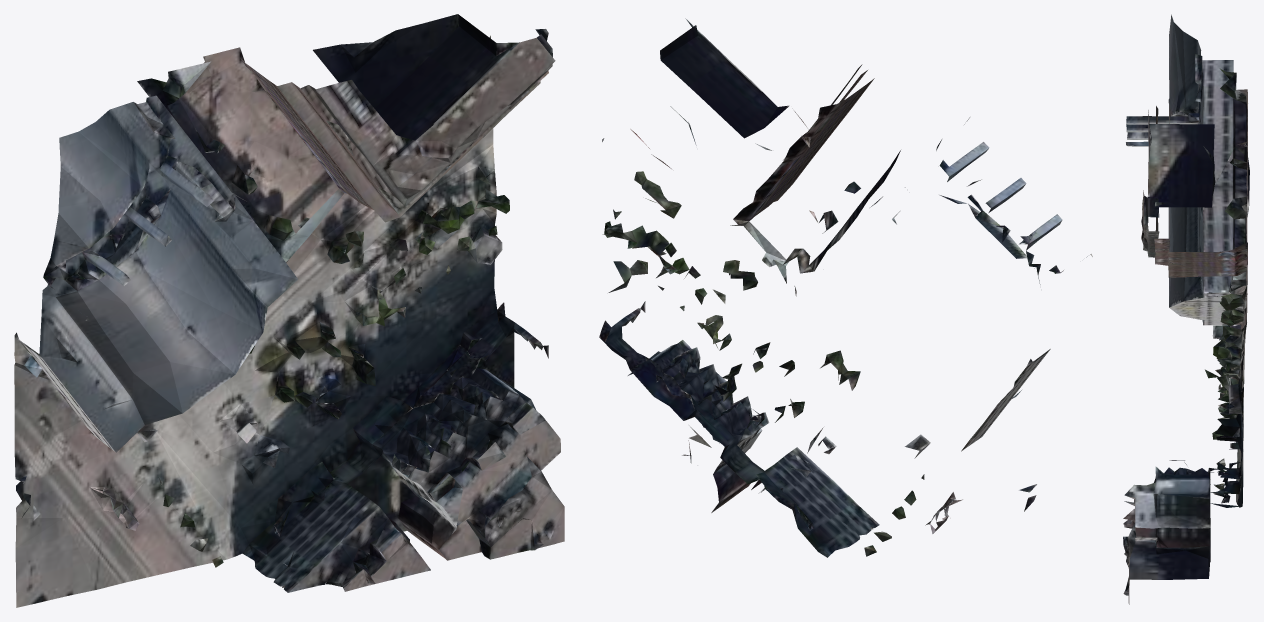
The model's file is Tile_+031_+020_L17_0003.glb.
The picture shows the model from 3 angles, left to right: view 1: azimuth 30°, elevation 25°; view 2: azimuth 150°, elevation 25°; view 3: azimuth 270°, elevation 25°; orthographic projection. The views are drawn at different scales.
Size of the model in its own units: 126 by 126 by 35.76.
1 material, 1 textured.
